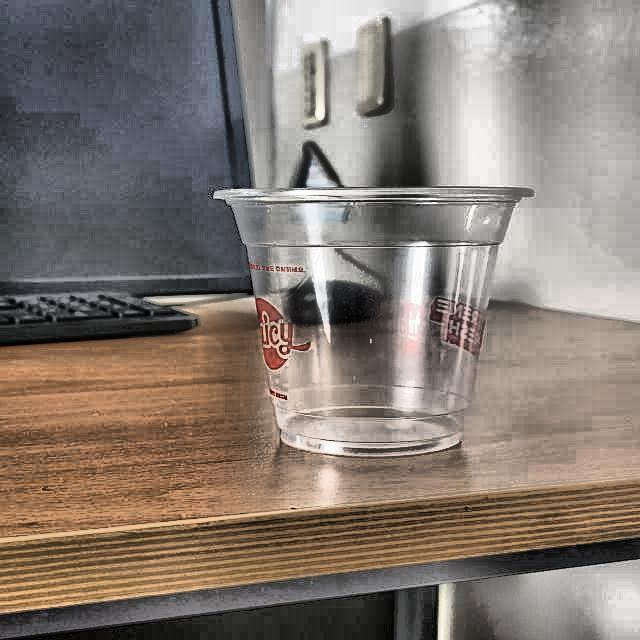plastic cup: (216, 183, 534, 460)
